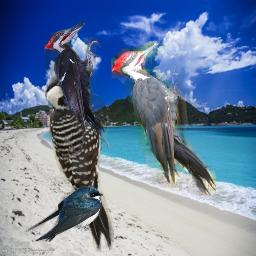Swallow: (25, 186, 103, 242)
Woodpecker: (111, 42, 216, 195), (45, 71, 114, 252), (44, 21, 105, 137)
